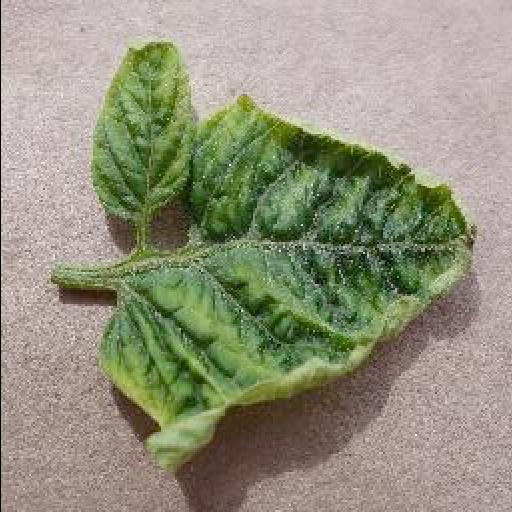disease_tomato: (96, 40, 480, 470)
